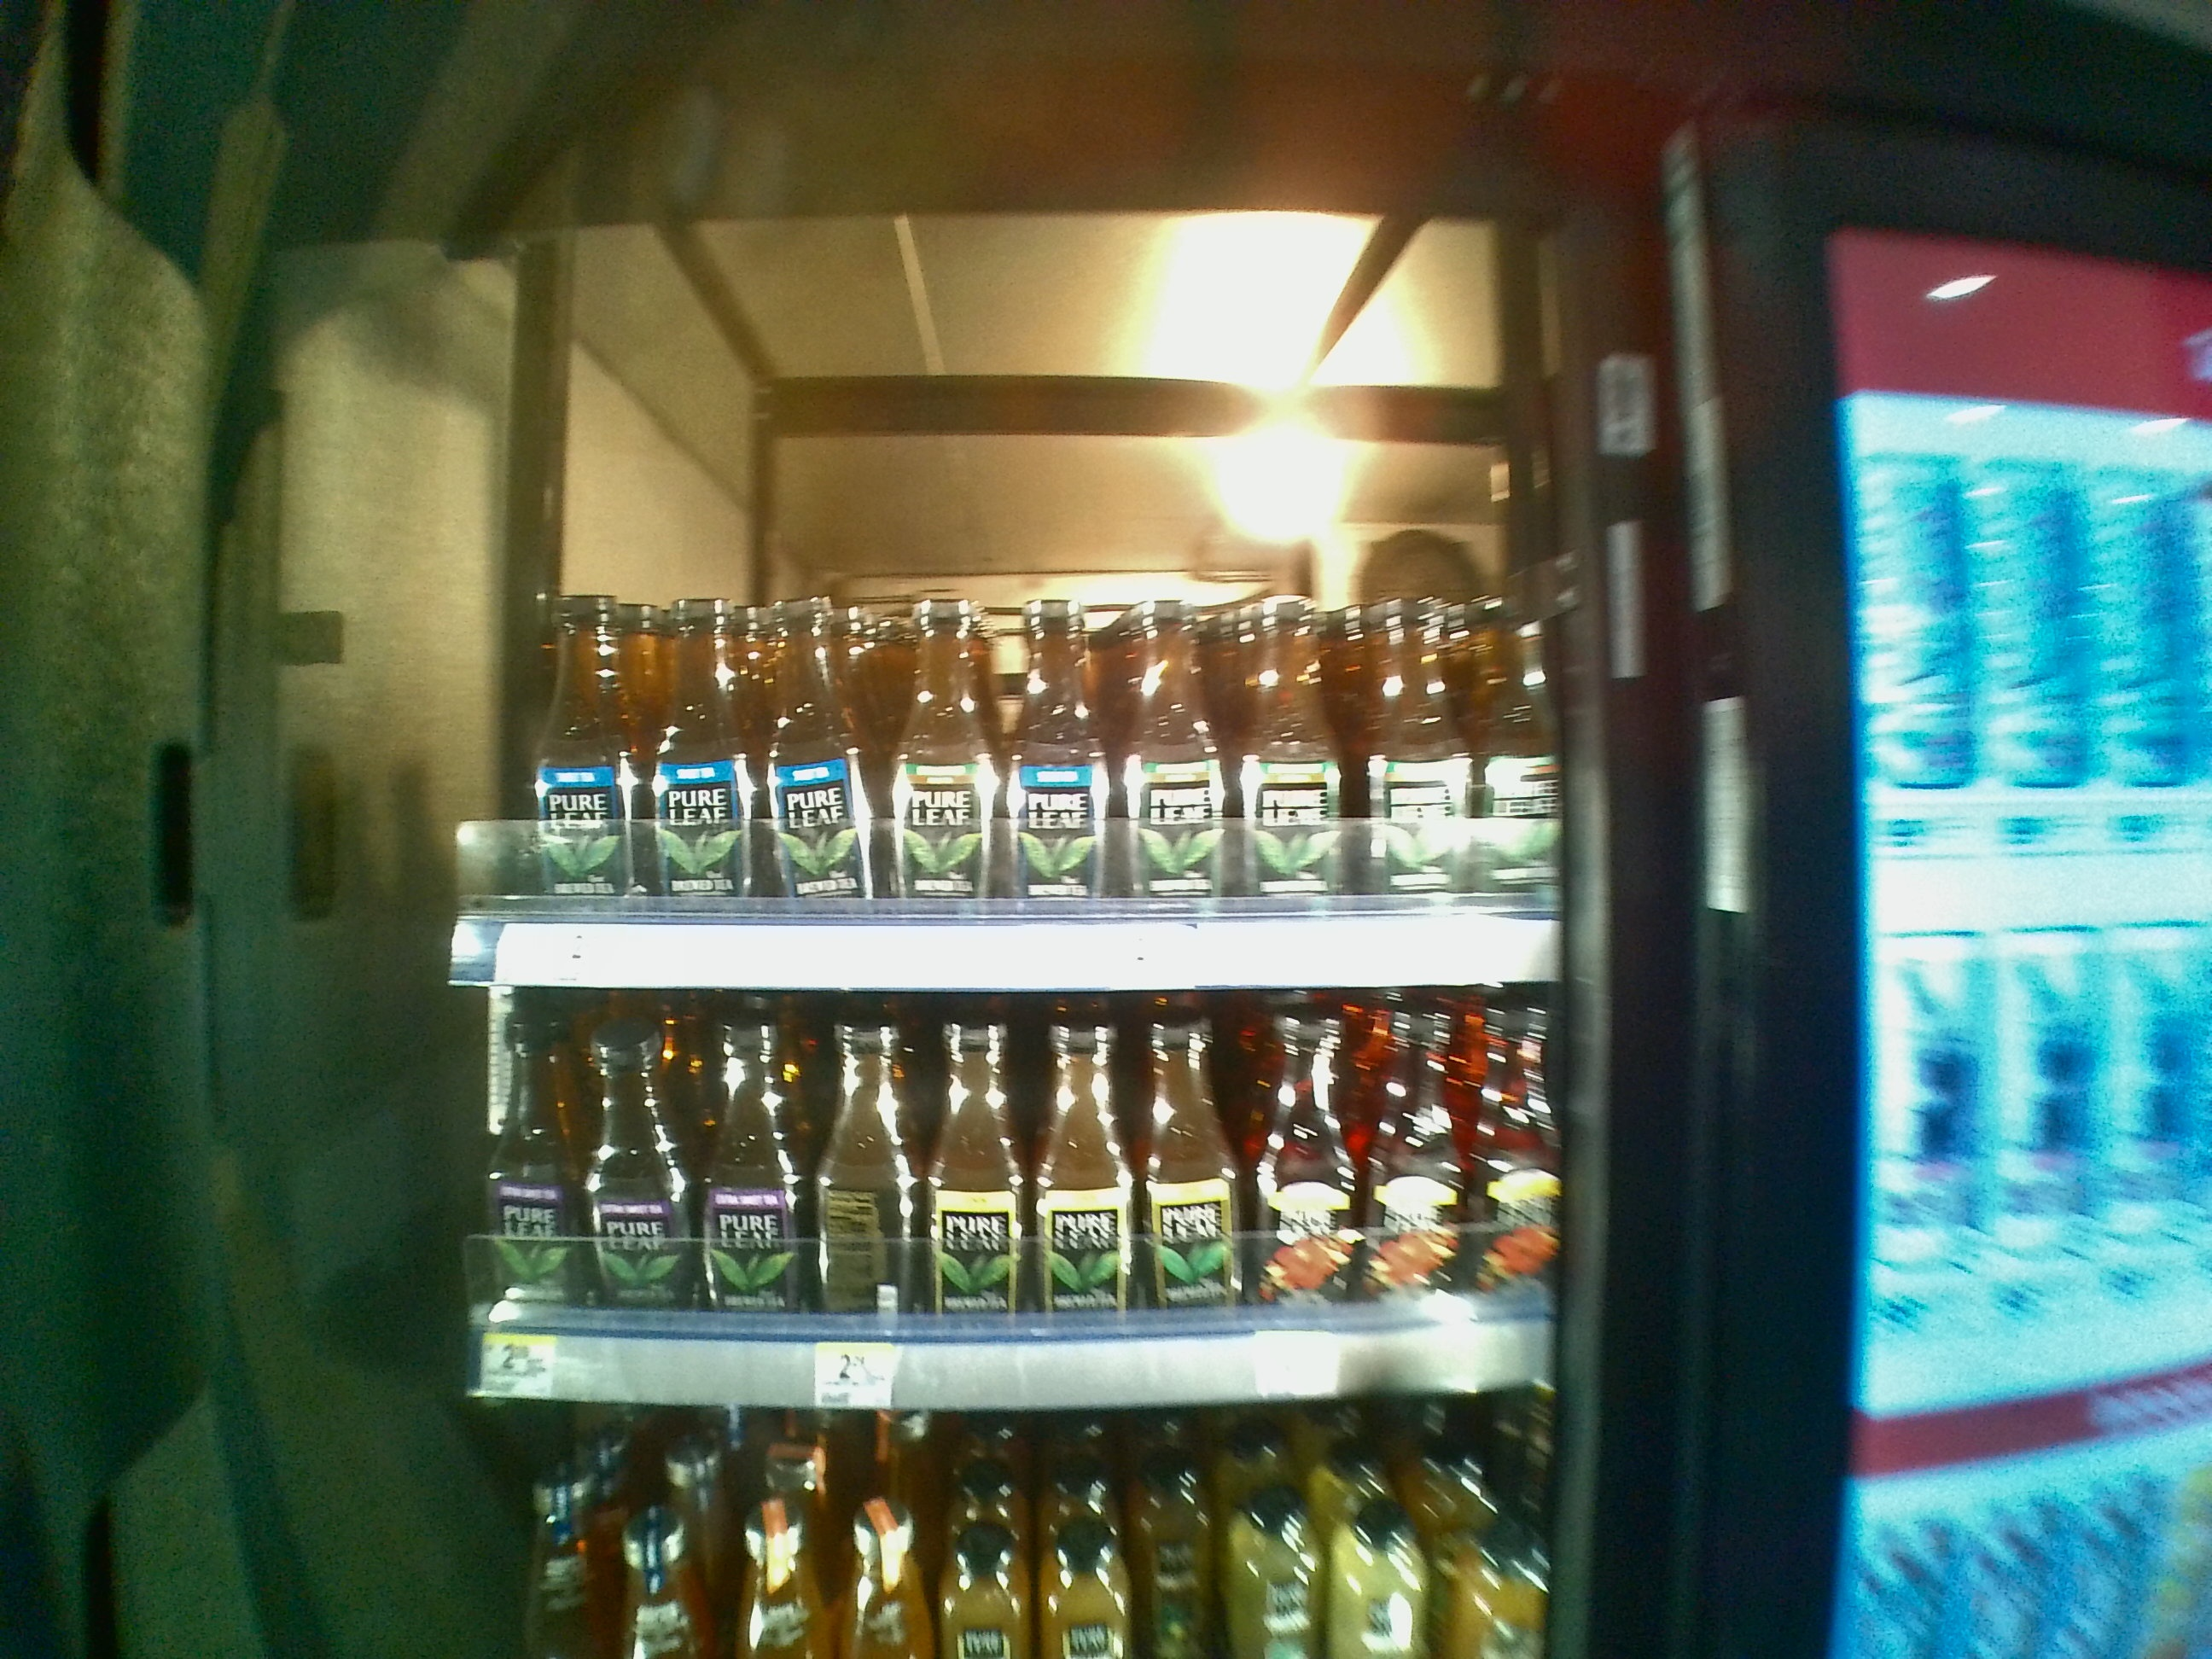shelf: (449, 251, 1566, 988), (460, 997, 1564, 1401)
